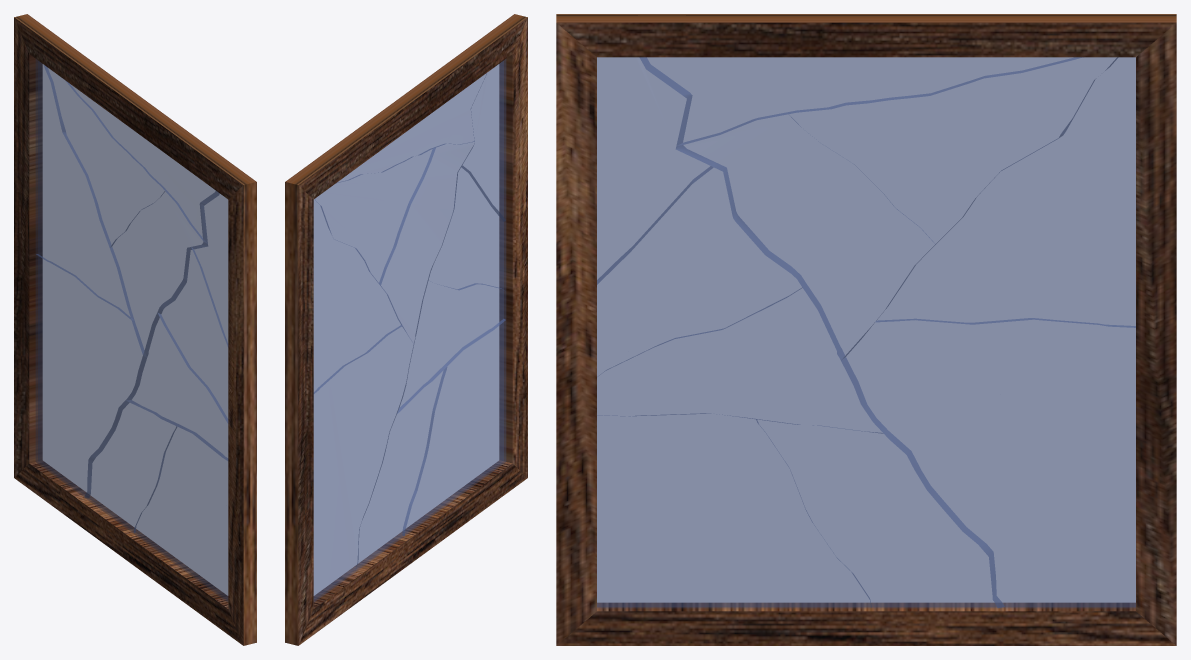
File: Window_Small_Broken.fbx
The picture shows the model from 3 angles, left to right: view 1: azimuth 30°, elevation 25°; view 2: azimuth 150°, elevation 25°; view 3: azimuth 270°, elevation 25°; orthographic projection. The views are drawn at different scales.
Visible parts, largest first — view 1: shard32; view 2: shard32; view 3: shard32.
Boxes of the visible parts, <box> form: shard32: <box>14,14,256,645</box>; shard32: <box>285,14,527,645</box>; shard32: <box>556,14,1176,645</box>.
Size of the model in its own units: 0.5329 by 17.62 by 15.9.
Materials: 2 (1 with a texture image).
